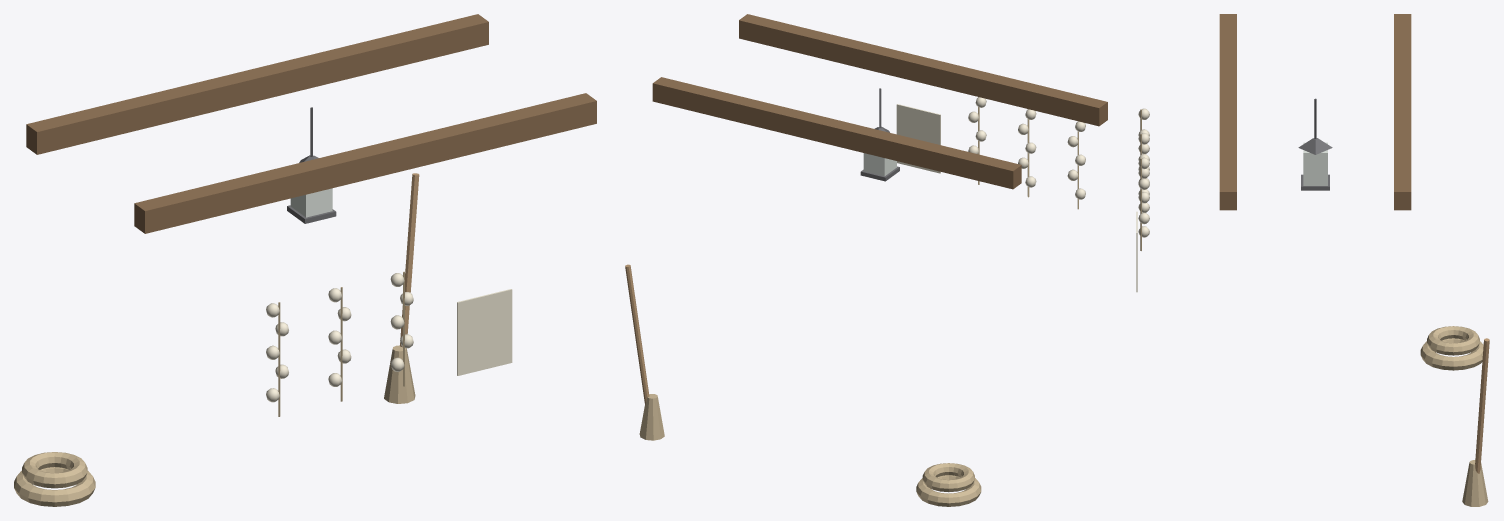
The model's file is hut_room.glb.
The picture shows the model from 3 angles, left to right: view 1: azimuth 30°, elevation 25°; view 2: azimuth 150°, elevation 25°; view 3: azimuth 270°, elevation 25°; orthographic projection. The views are drawn at different scales.
Visible parts, largest first — view 1: hut_room; view 2: hut_room; view 3: hut_room.
Part boxes in pixels (x1,y1,x2,y2): hut_room: (14, 14, 596, 506); hut_room: (625, 14, 1107, 506); hut_room: (1136, 14, 1489, 506).
Size of the model in its own units: 2.9 by 2.5 by 2.43.
